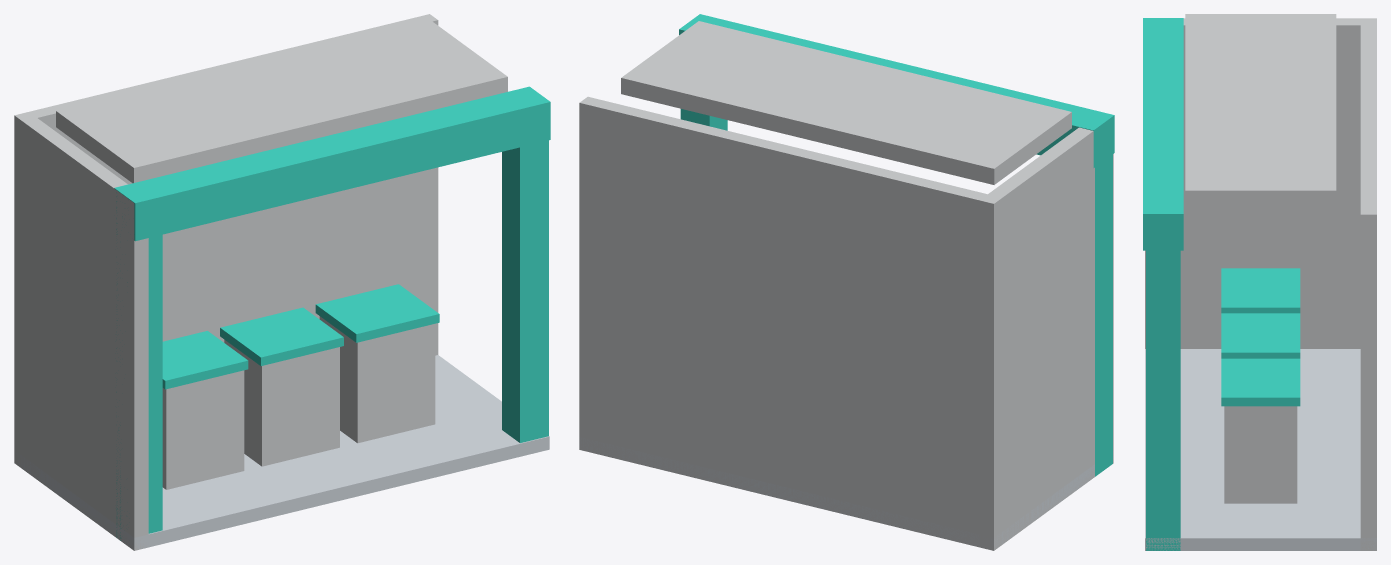
3 renders of one model, left to right at view 1: azimuth 30°, elevation 25°; view 2: azimuth 150°, elevation 25°; view 3: azimuth 270°, elevation 25°, orthographic. The views are drawn at different scales.
Parts seen in each view (by area): view 1: Exhibition Booth Concept; view 2: Exhibition Booth Concept; view 3: Exhibition Booth Concept.
Part boxes in pixels (x1=…): Exhibition Booth Concept: x1=14, y1=14, x2=550, y2=550; Exhibition Booth Concept: x1=579, y1=14, x2=1114, y2=550; Exhibition Booth Concept: x1=1143, y1=14, x2=1376, y2=550.
Bounding box in the file's own units: 4 × 3.34 × 2.01.
